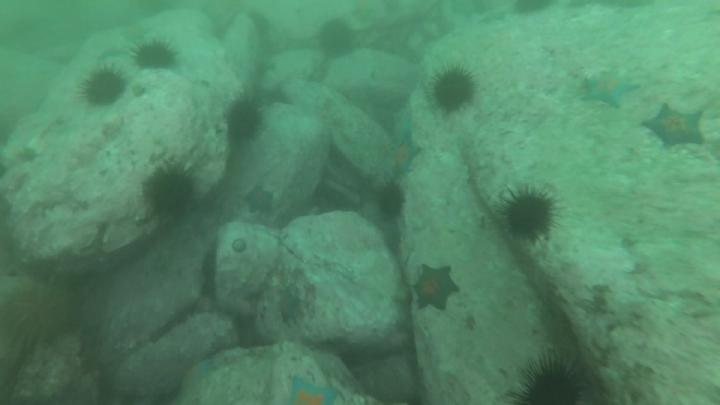echinus: (506, 351, 595, 405), (493, 184, 565, 250), (142, 166, 201, 228), (425, 63, 480, 119), (75, 64, 130, 111), (224, 92, 269, 146), (313, 17, 361, 63), (129, 37, 182, 73), (377, 181, 408, 223), (515, 1, 553, 21)
starfish: (643, 102, 711, 154), (413, 260, 463, 313), (578, 69, 640, 111), (279, 375, 344, 405), (388, 129, 424, 182), (243, 185, 280, 217)
